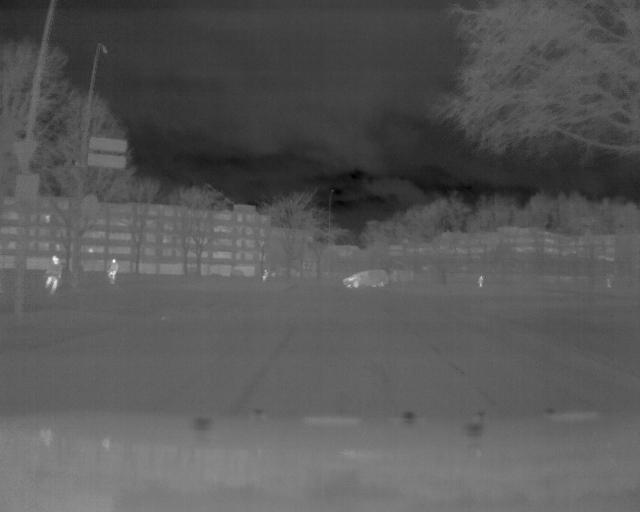car: (342, 268, 391, 291)
person: (42, 250, 66, 302), (106, 256, 119, 284)
